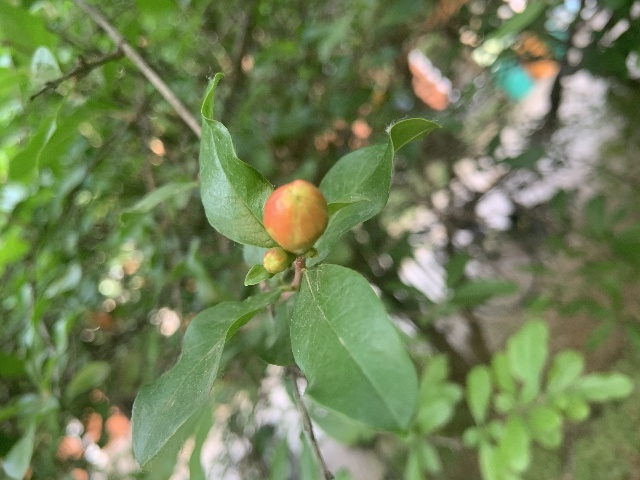bud: (263, 179, 327, 253), (263, 246, 289, 274)
